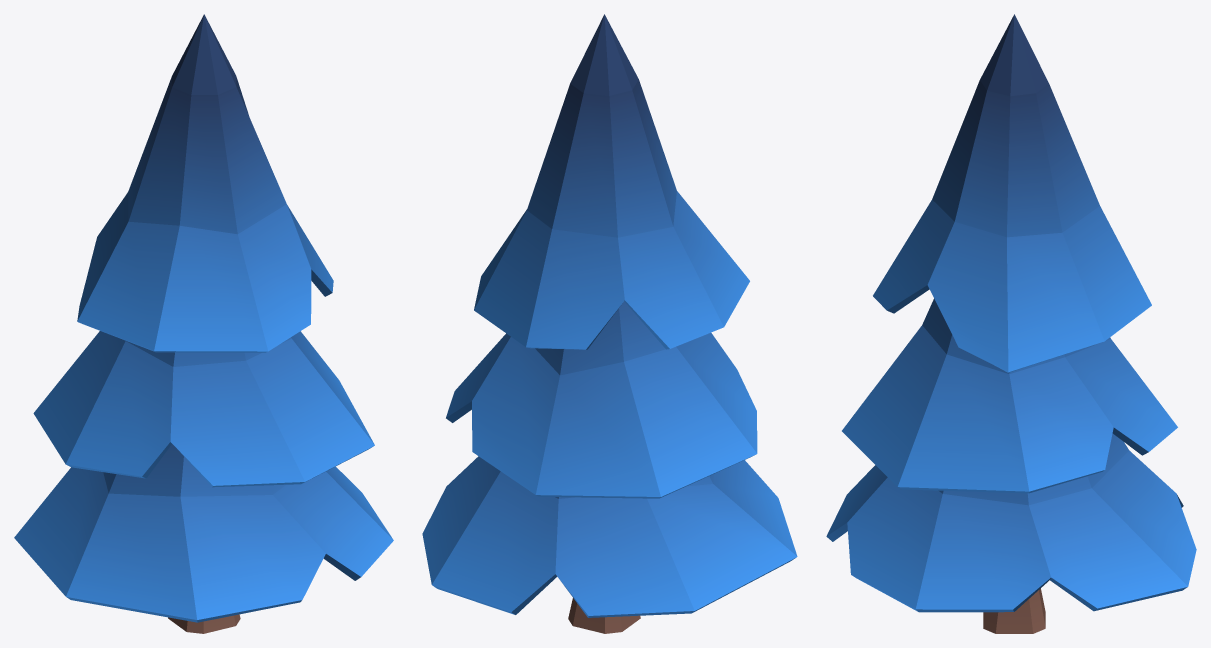
Rendered from BluePine2.fbx.
The picture shows the model from 3 angles, left to right: view 1: azimuth 30°, elevation 25°; view 2: azimuth 150°, elevation 25°; view 3: azimuth 270°, elevation 25°; orthographic projection.
Parts seen in each view (by area): view 1: BluePine2; view 2: BluePine2; view 3: BluePine2.
Part boxes in pixels (bbox=[...]): BluePine2: bbox=[14, 14, 393, 633]; BluePine2: bbox=[422, 14, 797, 633]; BluePine2: bbox=[826, 14, 1196, 633].
Size of the model in its own units: 432 by 773 by 428.
